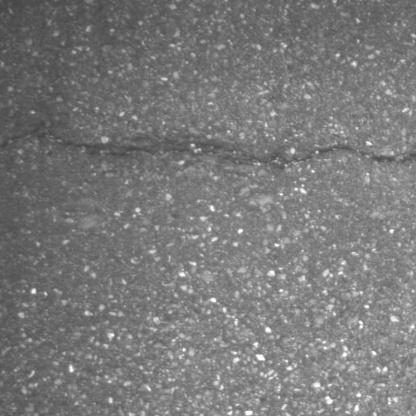Cracks: (0, 126, 416, 172)
